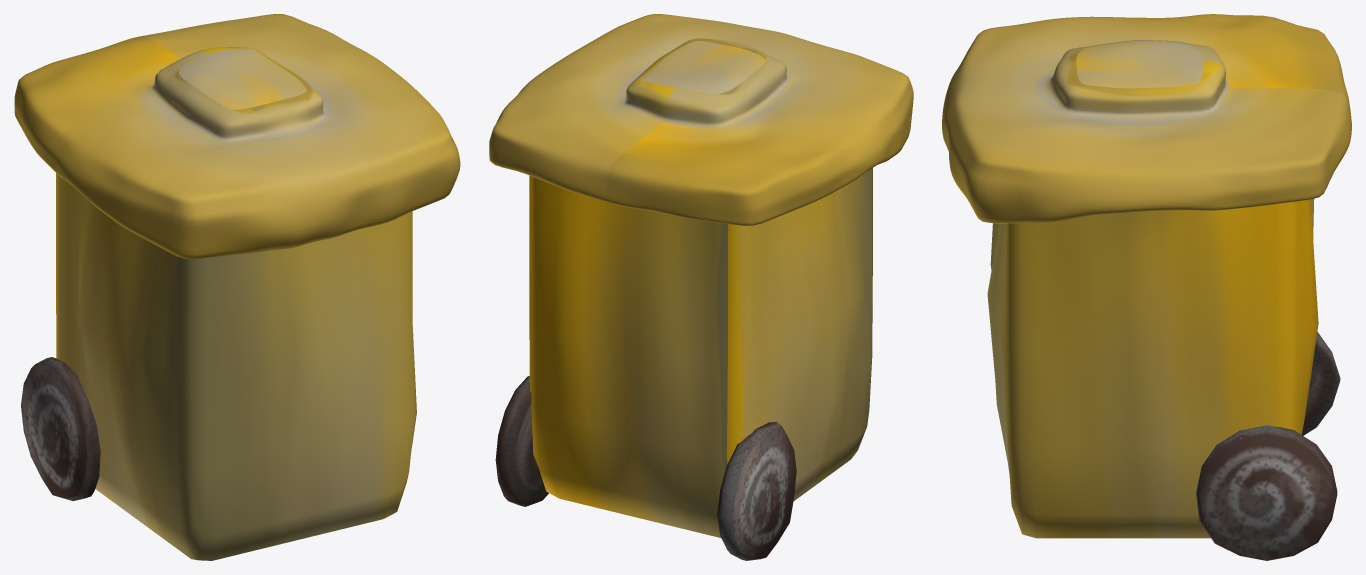
Rendered from GarbageCan_Y.fbx.
3 views of the same model, side by side, from view 1: azimuth 30°, elevation 25°; view 2: azimuth 150°, elevation 25°; view 3: azimuth 270°, elevation 25° (orthographic). The views are drawn at different scales.
Parts seen in each view (by area): view 1: GarbageCan_Y; view 2: GarbageCan_Y; view 3: GarbageCan_Y.
Part boxes in pixels (x1,y1,x2,y2): GarbageCan_Y: [14, 14, 460, 560]; GarbageCan_Y: [489, 14, 913, 560]; GarbageCan_Y: [942, 14, 1351, 560].
Bounding box in the file's own units: 120 × 147 × 122.
Materials: 1 (1 with a texture image).
